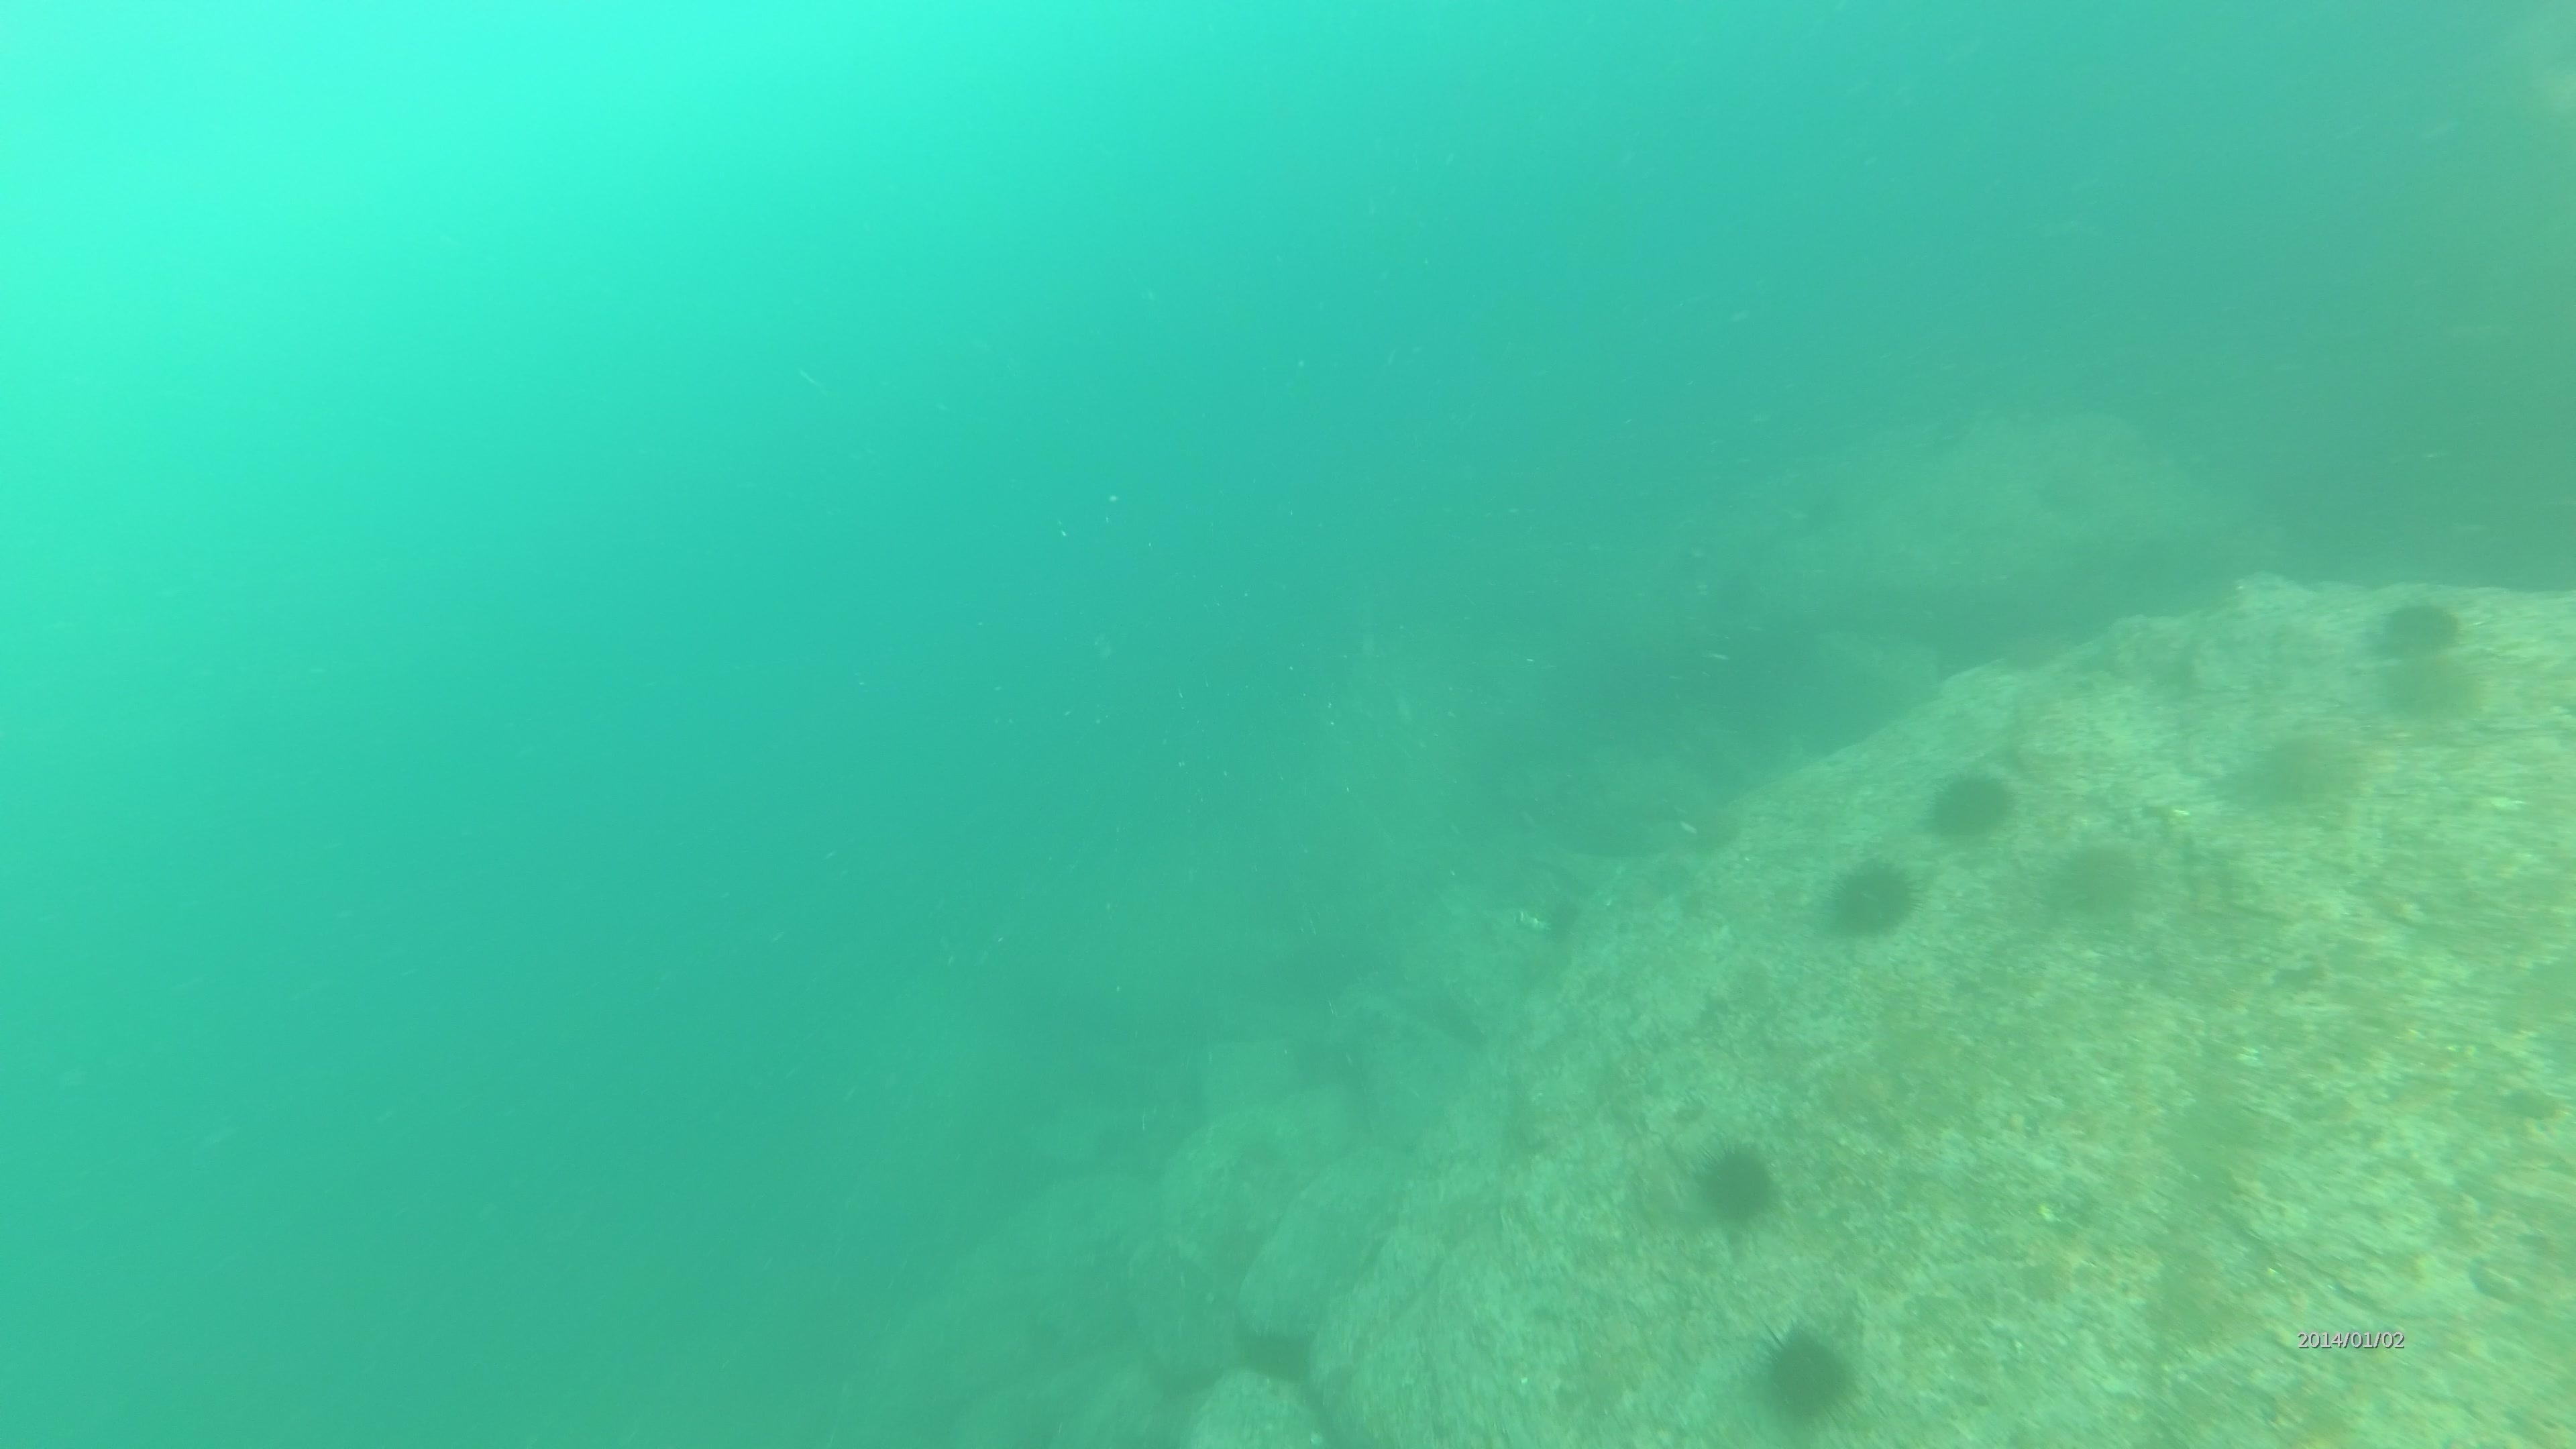echinus: (1750, 1318, 1865, 1430), (2238, 722, 2357, 816), (1688, 1134, 1787, 1235), (2051, 833, 2153, 927), (1821, 853, 1921, 945), (2367, 591, 2472, 672), (1921, 761, 2019, 847), (2385, 655, 2479, 732), (1668, 784, 1746, 860)
